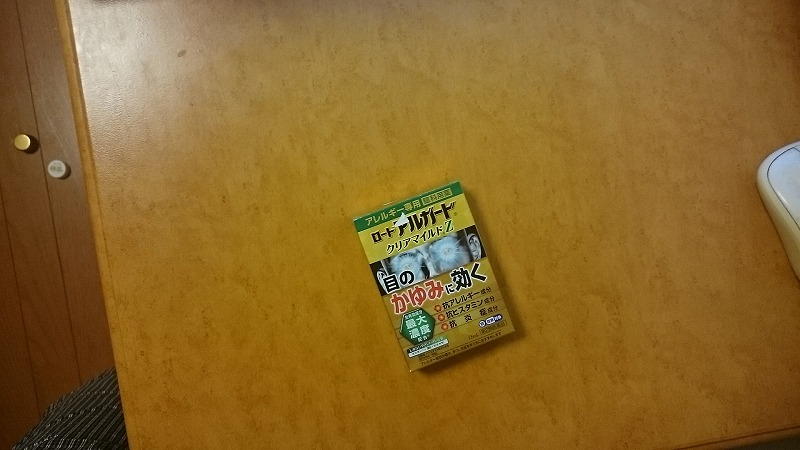C: (343, 178, 523, 381)
